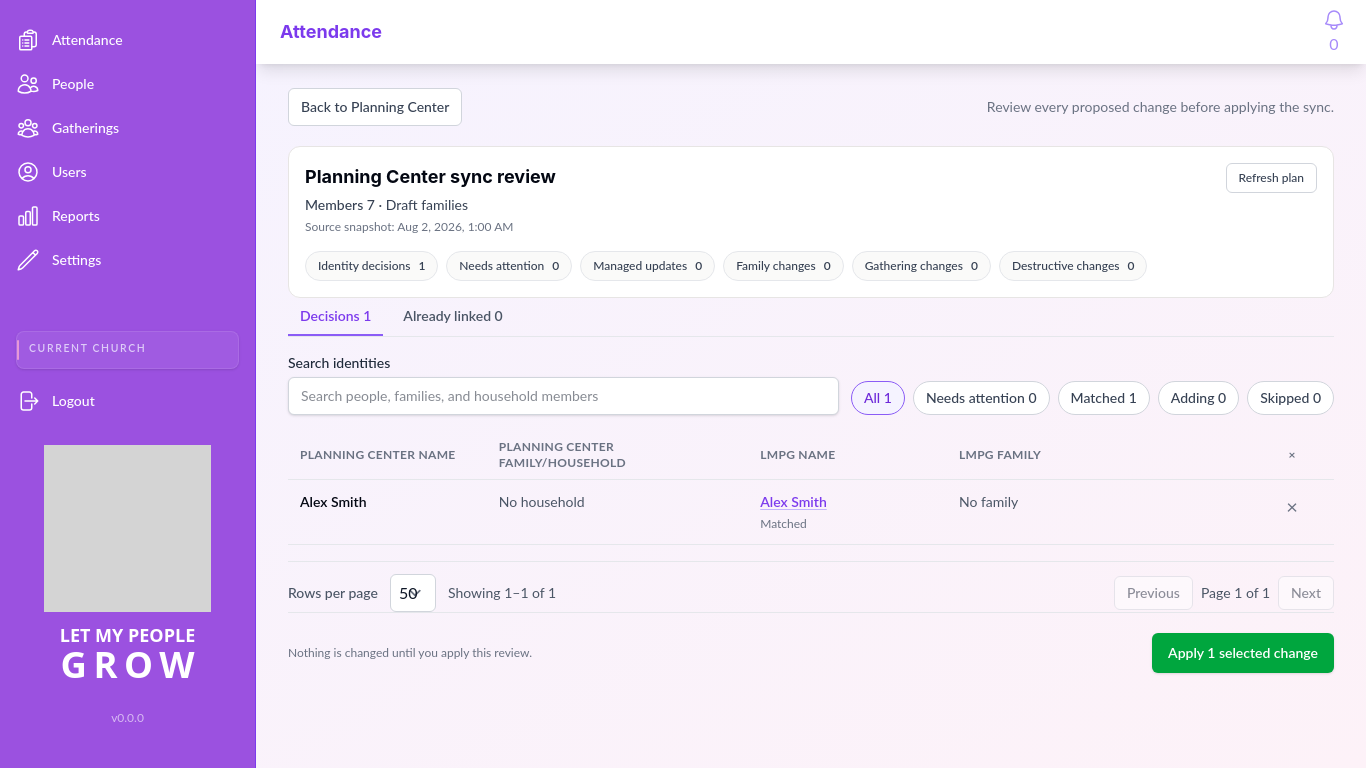
Test case: PeopleSyncBatchReviewPage › shows success, refreshes batch metadata once, and returns to the provider integration
Expected: the heading "Planning Center sync review" is shown, [305, 163, 556, 191]
Click the button "Apply 1 selected change" at (1243, 653), box [1152, 633, 1334, 673]
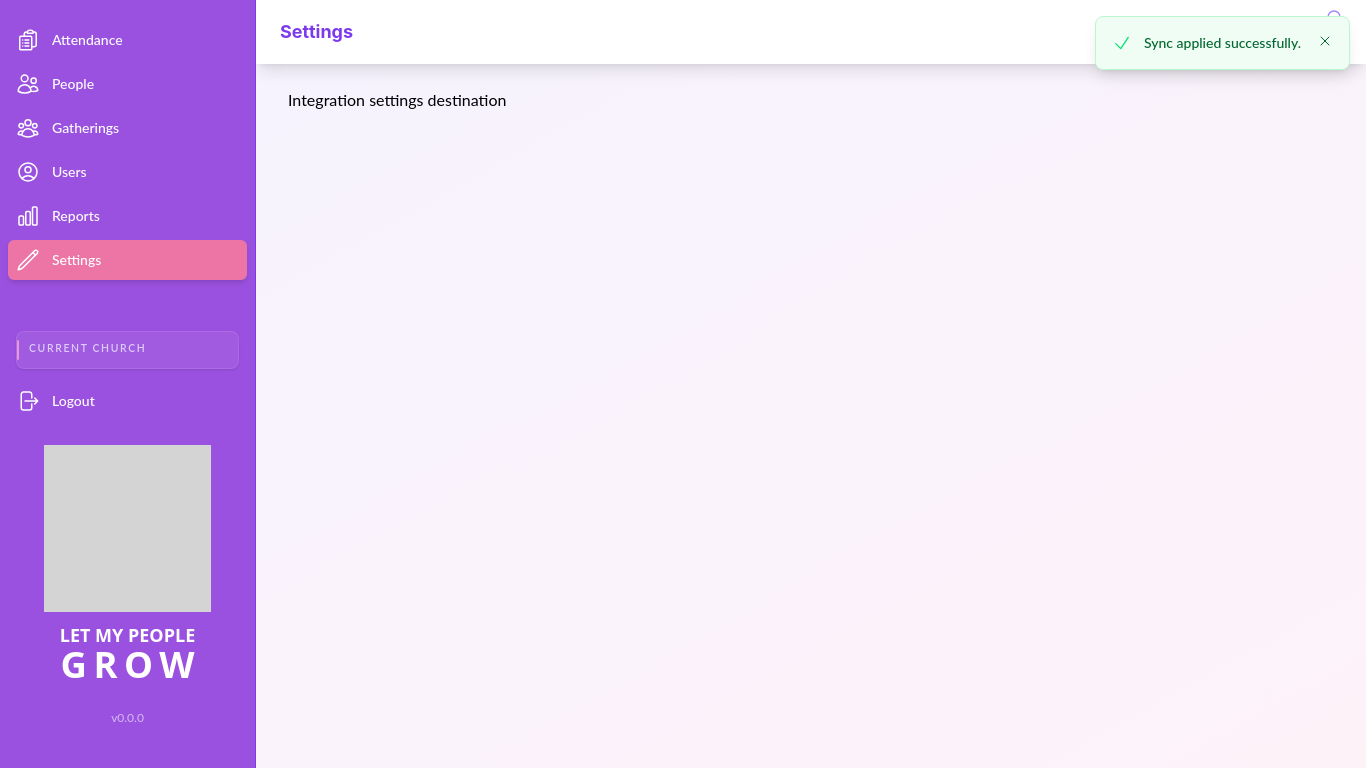
Expected: the text "Integration settings destination" is shown, [288, 90, 506, 109]
Expected: the text "Sync applied successfully." is shown, [1144, 33, 1301, 53]
